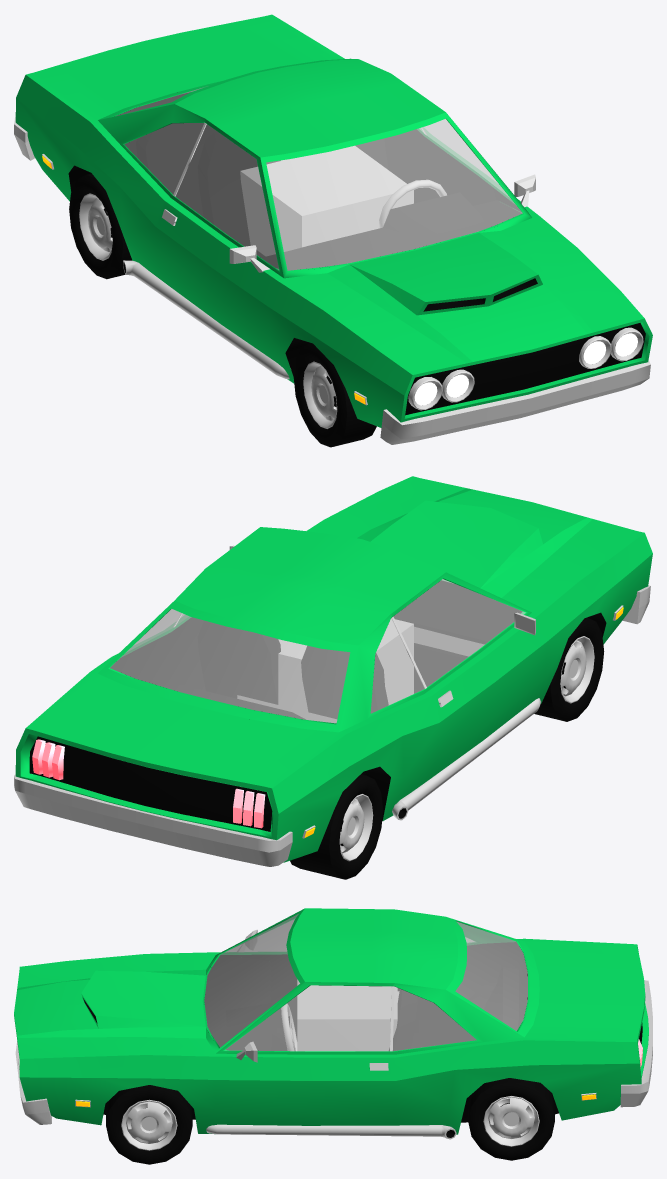
The model's file is car_green.glb.
The picture shows the model from 3 angles, top to bottom: view 1: azimuth 30°, elevation 25°; view 2: azimuth 150°, elevation 25°; view 3: azimuth 270°, elevation 25°; orthographic projection. The views are drawn at different scales.
Visible parts, largest first — view 1: Cube_0, Cube, Cube.001_3, Cube.005_6; view 2: Cube_0, Cube.005_6, Cube, Cube.001_3; view 3: Cube_0, Cube, Cube.002_4, Cube.004_5.
Part boxes in pixels (box(x1,y1,x2,y2)): Cube_0: box(14, 14, 652, 444); Cube: box(240, 146, 413, 256); Cube.001_3: box(293, 343, 376, 447); Cube.005_6: box(69, 173, 132, 279); Cube_0: box(14, 476, 652, 866); Cube.005_6: box(290, 774, 383, 879); Cube: box(237, 618, 413, 722); Cube.001_3: box(534, 617, 604, 721); Cube_0: box(14, 908, 652, 1139); Cube: box(297, 980, 399, 1050); Cube.002_4: box(468, 1078, 554, 1160); Cube.004_5: box(106, 1085, 192, 1164).
Bounding box in the file's own units: 5.46 × 3.6 × 12.16.
